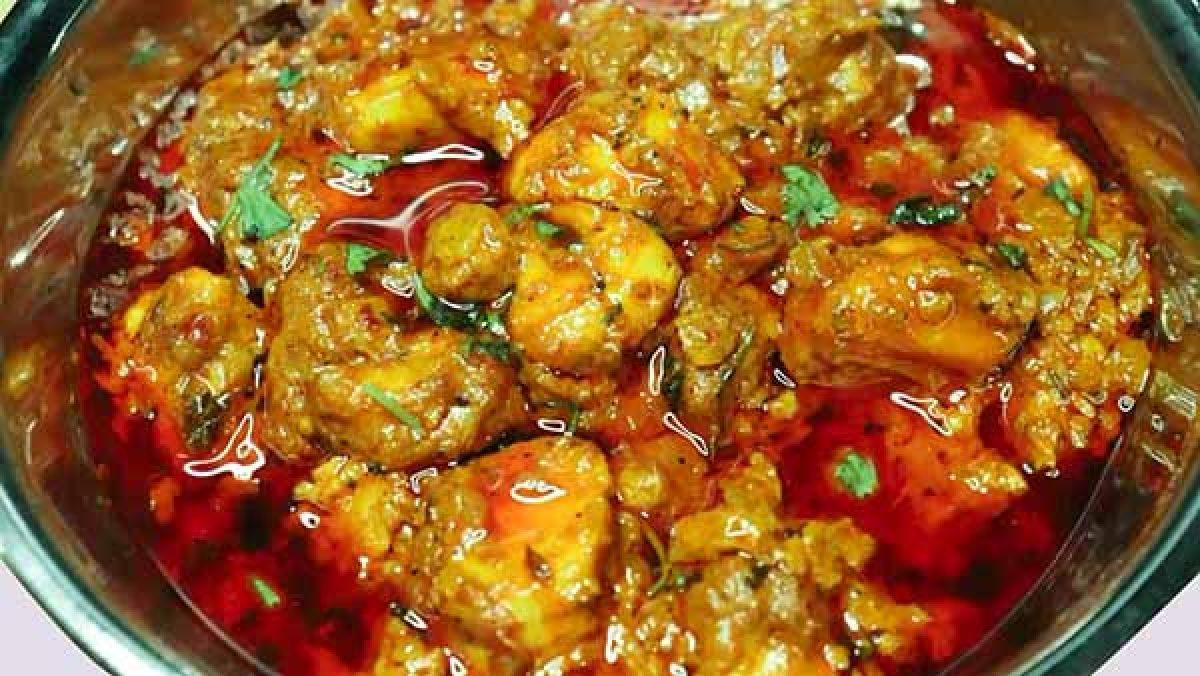chicken: (114, 23, 1152, 676)
